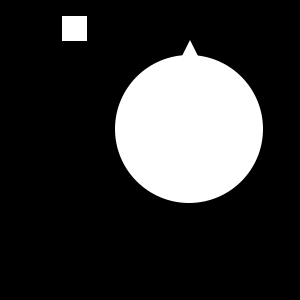circle: (62, 16, 87, 41)
rectangle: (115, 55, 263, 203)
triangle: (168, 40, 212, 84)
